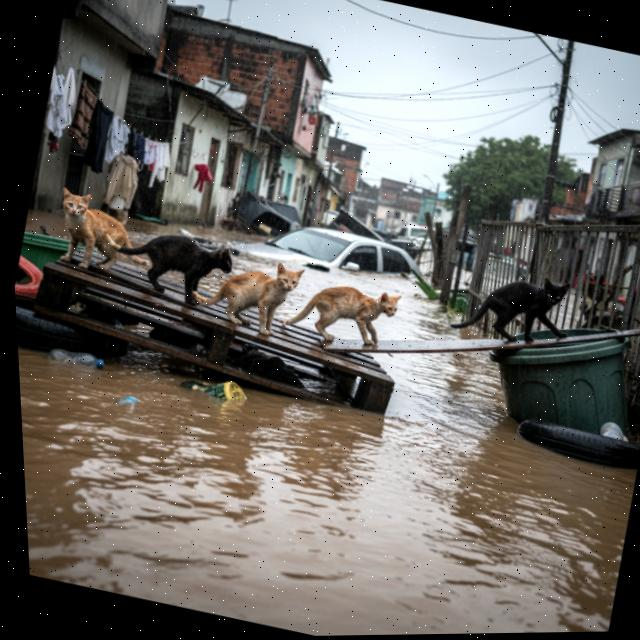cat: (426, 250, 579, 367), (97, 215, 242, 315), (277, 259, 412, 361), (180, 242, 310, 347), (42, 179, 163, 285)
